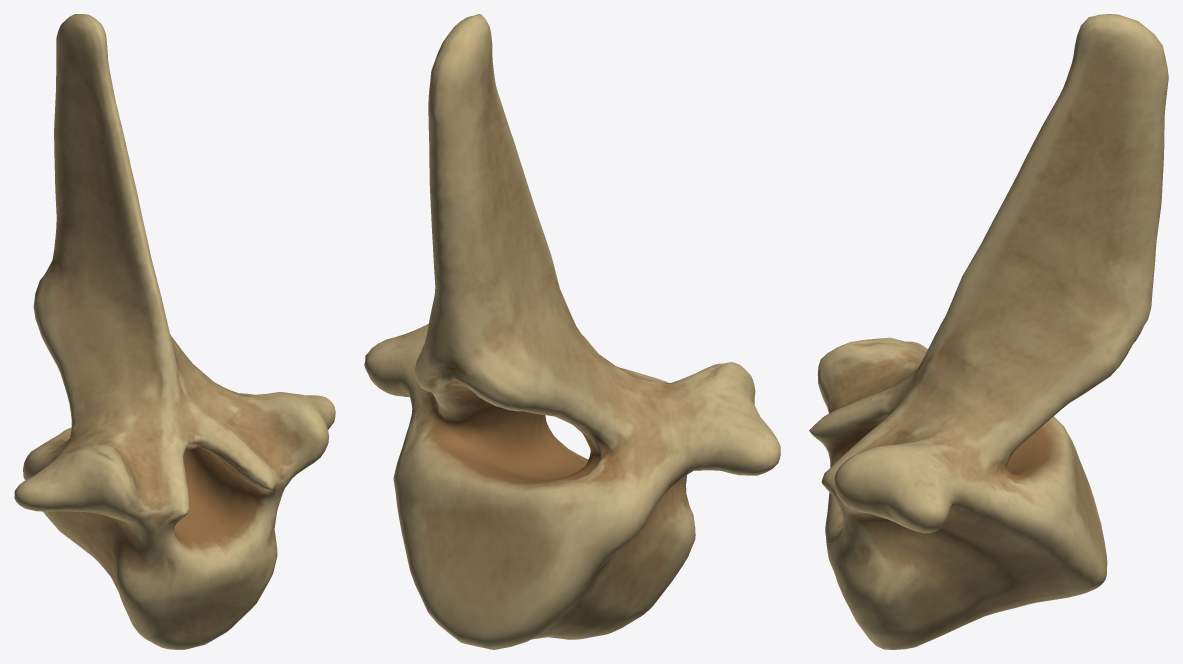
The picture shows the model from 3 angles, left to right: view 1: azimuth 30°, elevation 25°; view 2: azimuth 150°, elevation 25°; view 3: azimuth 270°, elevation 25°; orthographic projection. The views are drawn at different scales.
Visible parts, largest first — view 1: Group29018; view 2: Group29018; view 3: Group29018.
Boxes of the visible parts, x1,y1,x2,y2 form: Group29018: [14, 14, 335, 649]; Group29018: [364, 14, 780, 649]; Group29018: [809, 14, 1168, 649].
Bounding box in the file's own units: 53.51 × 89.02 × 46.29.
Materials: 1 (1 with a texture image).
